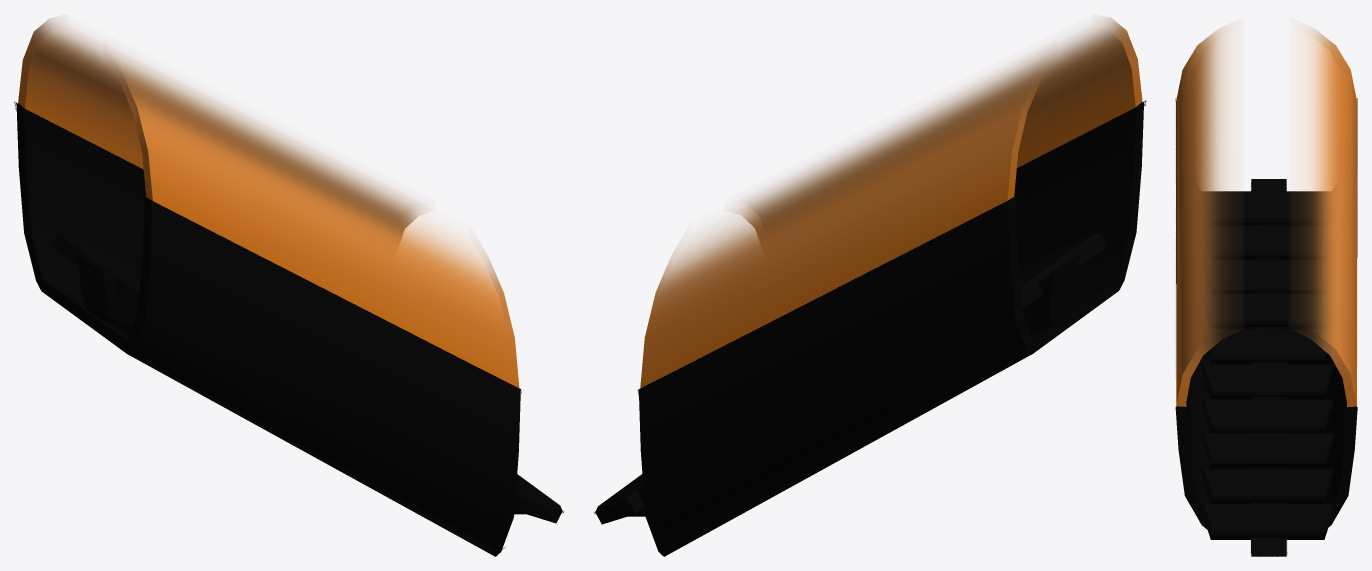
File: crystal-crossroads__Stairs.glb
The picture shows the model from 3 angles, left to right: view 1: azimuth 30°, elevation 25°; view 2: azimuth 150°, elevation 25°; view 3: azimuth 270°, elevation 25°; orthographic projection. The views are drawn at different scales.
Parts seen in each view (by area): view 1: Stairs; view 2: Stairs; view 3: Stairs.
Part boxes in pixels (x1,y1,x2,y2): Stairs: (14,17,563,556); Stairs: (594,17,1146,556); Stairs: (1175,26,1357,556).
Size of the model in its own units: 6.25 by 7.72 by 3.22.
3 materials, 2 textured.
